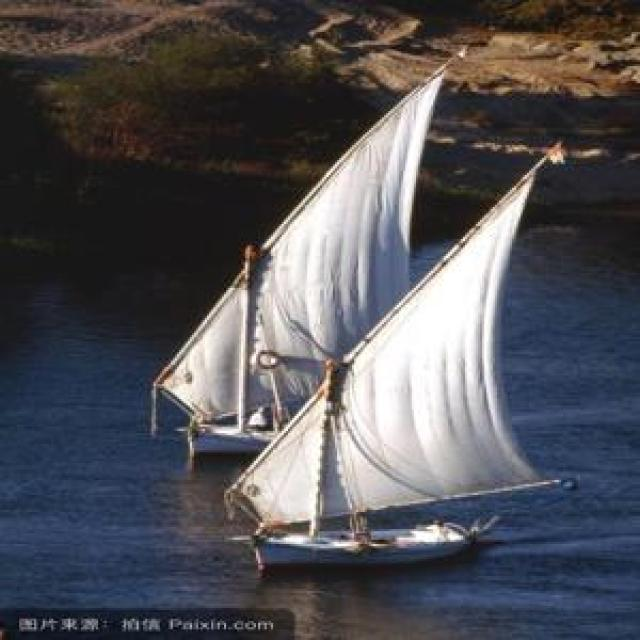sailboat: (234, 129, 565, 565), (155, 39, 451, 458)
